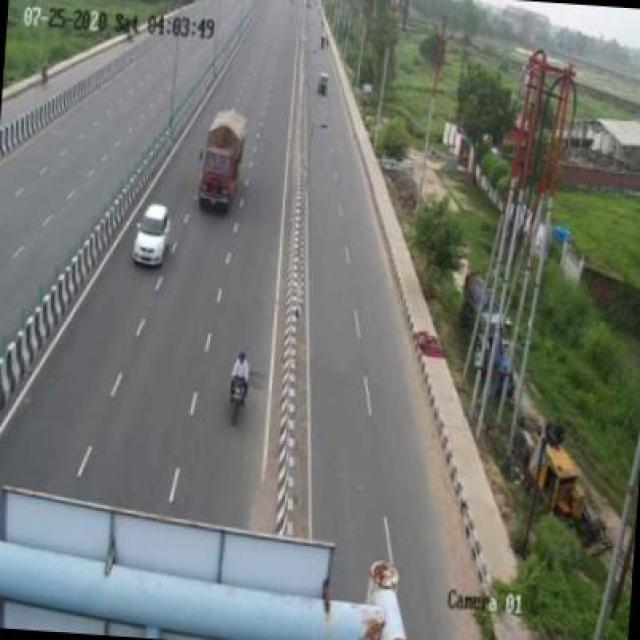car: (137, 201, 180, 280)
